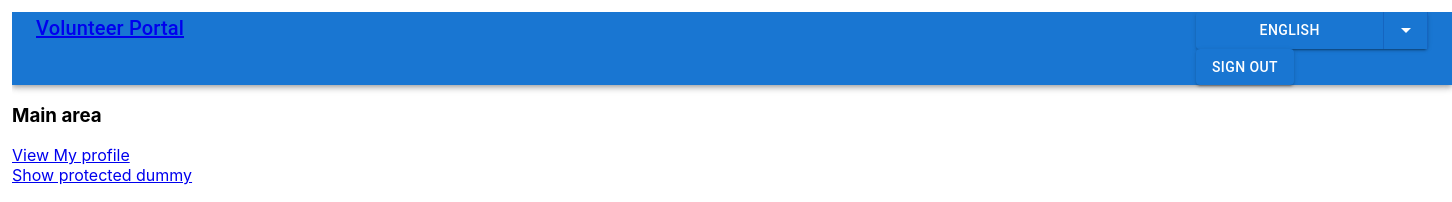
Scenario: Global behavior › Global behavior:Show nav bar when access a secured page
Expected: the link "Volunteer Portal" is shown, [36,16,184,40]
Click the link "Show protected dummy" at (102, 175), box [12,165,192,185]
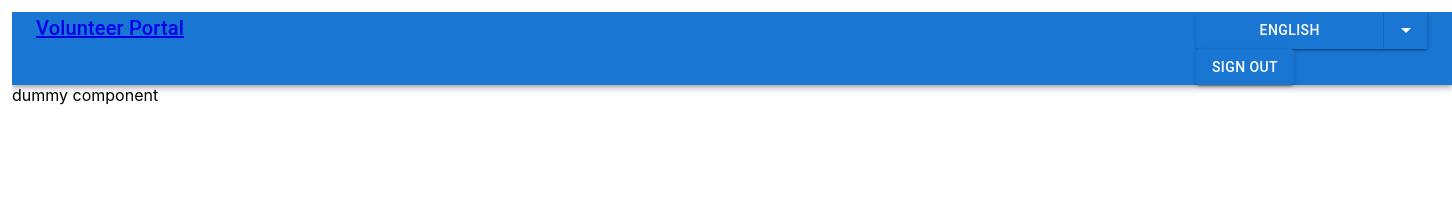
Expected: the link "Volunteer Portal" is shown, [36,16,184,40]
Now the text "dummy component" is shown, box [12,85,158,105]
